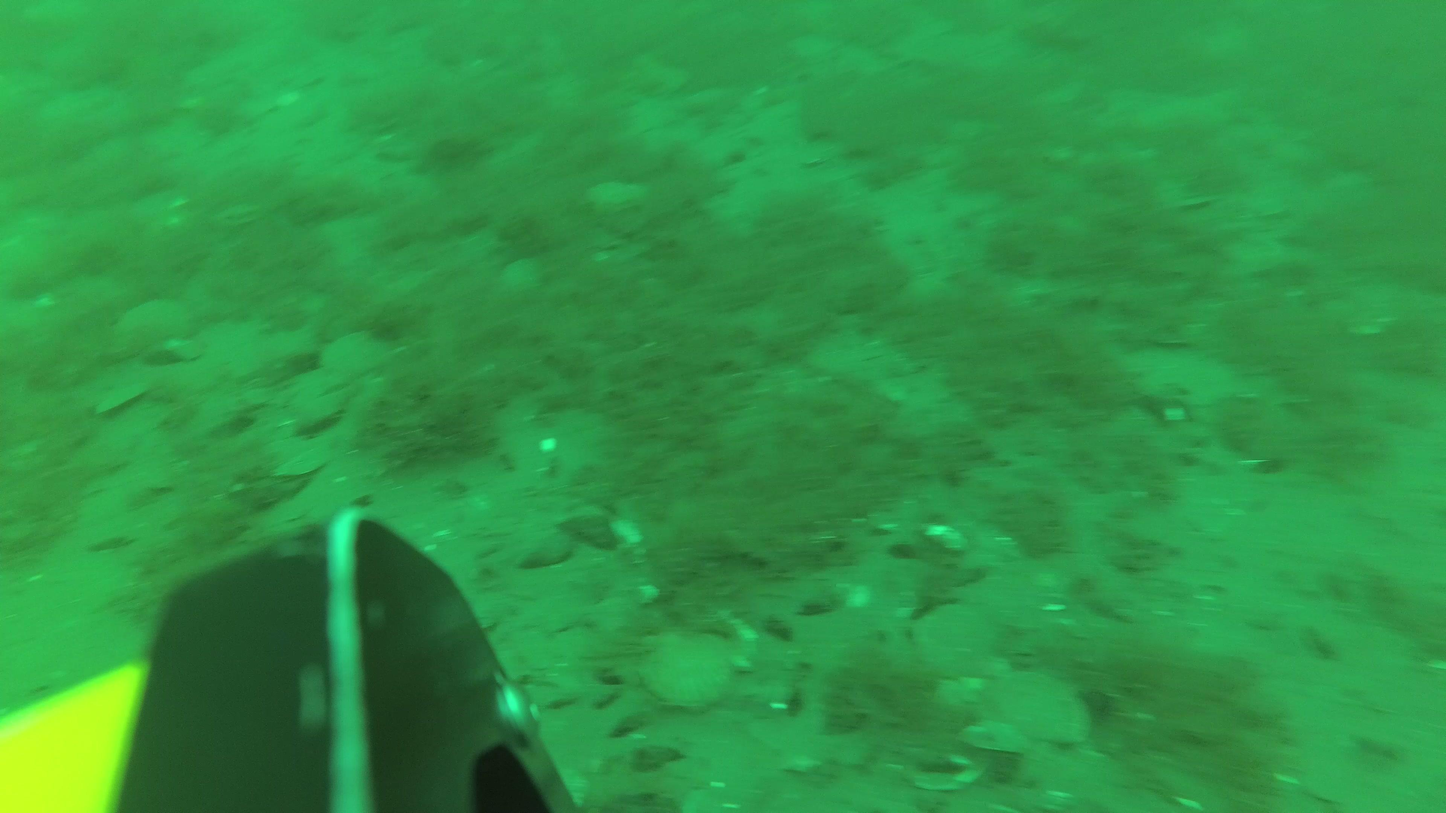scallop: (961, 668, 1092, 755), (903, 600, 1004, 679), (635, 635, 739, 711), (110, 297, 194, 352), (587, 177, 653, 219)
